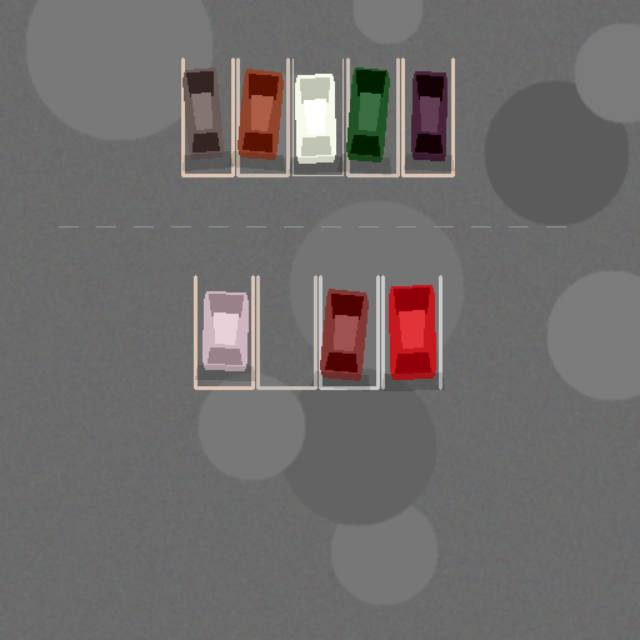space-empty: (258, 276, 315, 388)
space-occupied: (320, 276, 378, 388), (382, 276, 440, 388), (195, 276, 252, 388), (183, 59, 233, 175), (237, 59, 287, 175), (293, 59, 343, 175), (347, 59, 397, 175), (403, 59, 453, 175)
